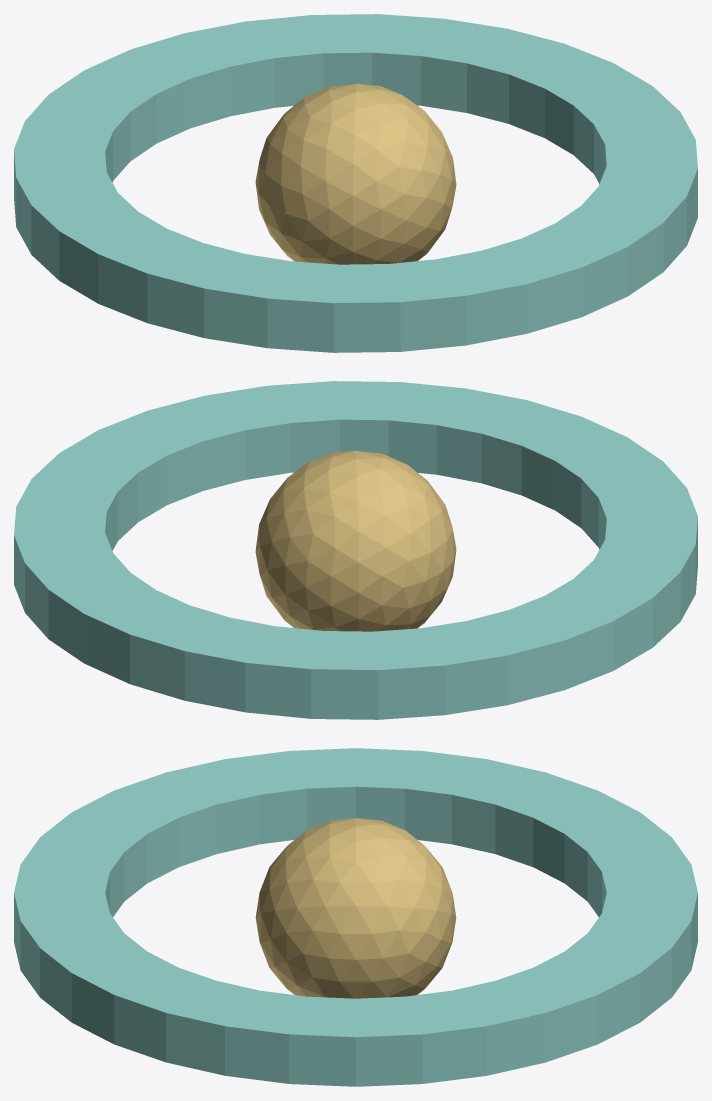
File: upgrade_timing.glb
3 views of the same model, one above another, from view 1: azimuth 30°, elevation 25°; view 2: azimuth 150°, elevation 25°; view 3: azimuth 270°, elevation 25° (orthographic).
Visible parts, largest first — view 1: timing_halo, sensor; view 2: timing_halo, sensor; view 3: timing_halo, sensor.
Boxes of the visible parts, <box> form: timing_halo: <box>14,14,697,352</box>; sensor: <box>255,83,456,264</box>; timing_halo: <box>14,381,697,719</box>; sensor: <box>255,450,456,631</box>; timing_halo: <box>14,748,697,1086</box>; sensor: <box>255,818,456,998</box>.
Size of the model in its own units: 1.5 by 0.44 by 1.5.
